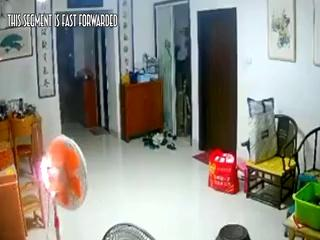Fire: (36, 149, 57, 196)
